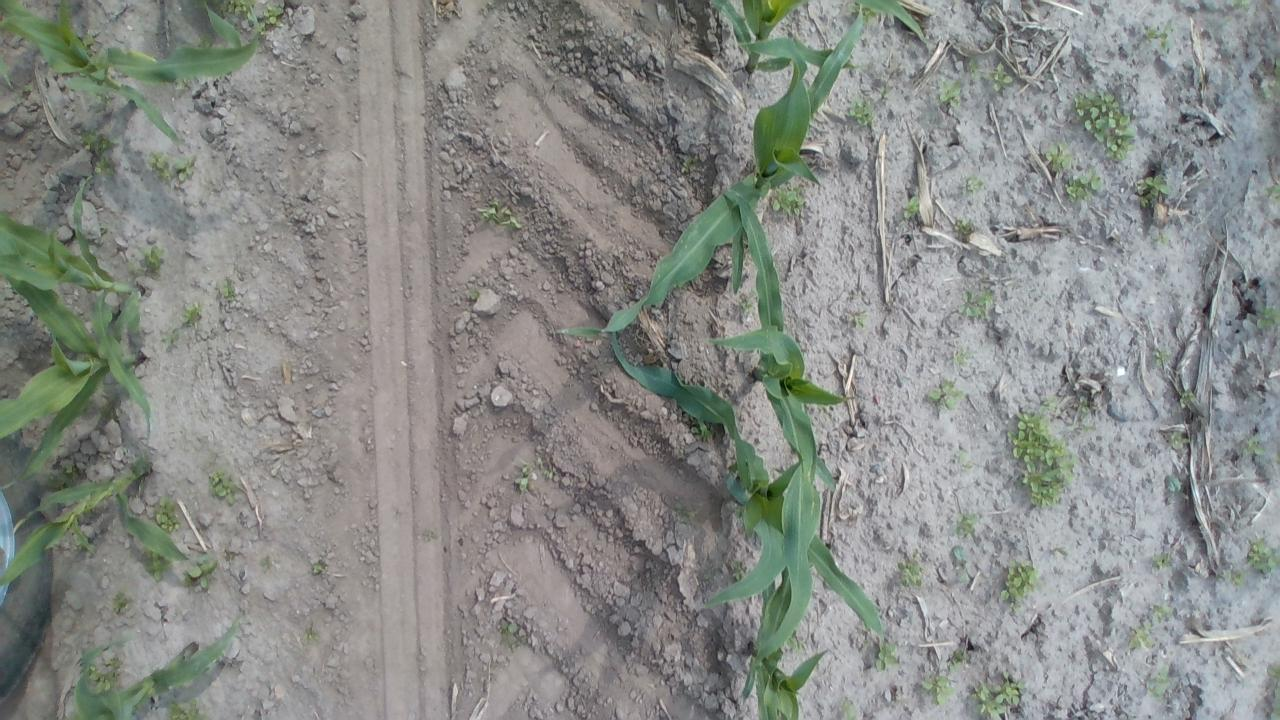Maize: (551, 0, 930, 342), (609, 329, 888, 647), (698, 186, 848, 512), (0, 176, 153, 456), (0, 0, 263, 146), (1, 248, 148, 490), (3, 458, 219, 596), (74, 611, 245, 720), (738, 540, 832, 720), (706, 1, 808, 77)
Weeds: (1007, 398, 1065, 506), (1067, 87, 1139, 162), (218, 0, 286, 35), (972, 679, 1028, 720), (998, 560, 1038, 614), (76, 132, 121, 176), (473, 199, 522, 234), (141, 151, 199, 180), (180, 554, 220, 588), (926, 380, 964, 413), (1064, 172, 1104, 202), (127, 246, 164, 276), (920, 674, 955, 705), (1136, 174, 1170, 205), (1246, 540, 1277, 572), (84, 665, 122, 691), (959, 290, 994, 318), (208, 469, 236, 504), (1140, 23, 1173, 52), (510, 459, 536, 494), (842, 98, 873, 127), (771, 188, 808, 212), (164, 697, 202, 720), (950, 512, 980, 541), (1258, 59, 1278, 101), (142, 552, 170, 582), (1042, 140, 1068, 172), (497, 619, 526, 647), (156, 496, 178, 532), (897, 558, 920, 591), (1146, 670, 1170, 700), (1267, 664, 1280, 719), (1127, 625, 1153, 652), (1214, 564, 1245, 586), (874, 644, 898, 672), (1255, 306, 1280, 330), (531, 456, 553, 483), (991, 64, 1012, 92), (1150, 600, 1174, 624), (178, 300, 200, 326), (936, 83, 960, 106), (212, 280, 236, 303), (950, 348, 976, 368), (1169, 430, 1195, 450), (160, 326, 180, 350), (1152, 556, 1174, 576), (952, 218, 974, 238), (902, 198, 920, 220), (961, 178, 984, 195), (1242, 438, 1260, 458), (1150, 344, 1168, 363), (1224, 0, 1252, 12), (80, 33, 96, 51), (854, 312, 870, 329), (844, 702, 858, 720), (113, 596, 131, 610), (1180, 389, 1192, 409), (738, 298, 754, 312), (312, 562, 326, 576), (680, 156, 691, 173), (302, 629, 316, 642)
